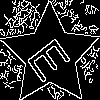E: (25, 30, 80, 84)
